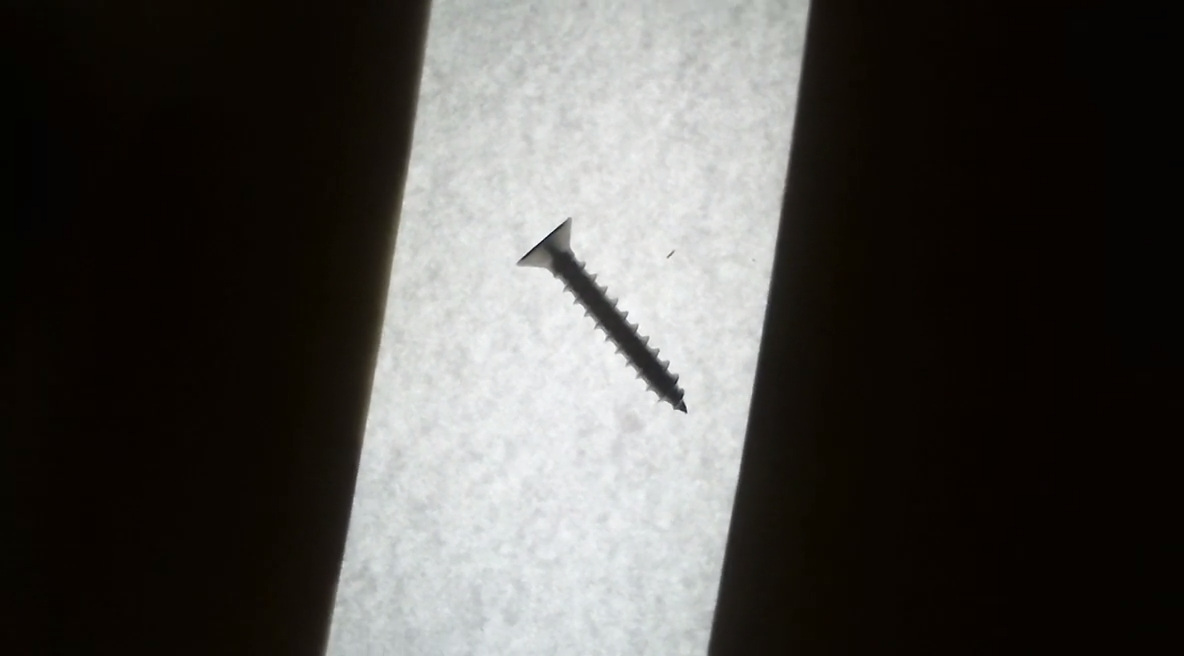S001: (499, 203, 713, 423)
